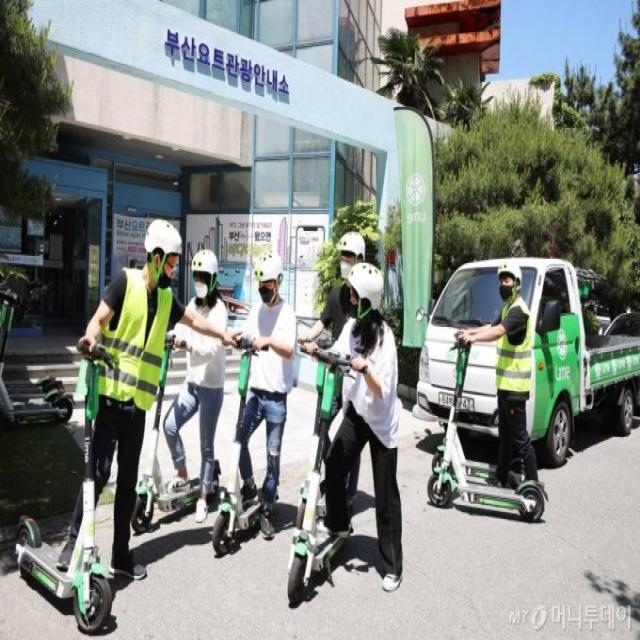helmet: (8, 139, 184, 632), (272, 191, 417, 609), (425, 205, 563, 560), (206, 216, 295, 572)
